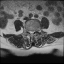CCS_severe_stenosis: (31, 29, 32, 36)
LFS_normal: (34, 28, 35, 33)
LLS_stenosis: (32, 29, 34, 35)
RFS_normal: (27, 28, 29, 34)
RLS_normal: (29, 29, 31, 35)
